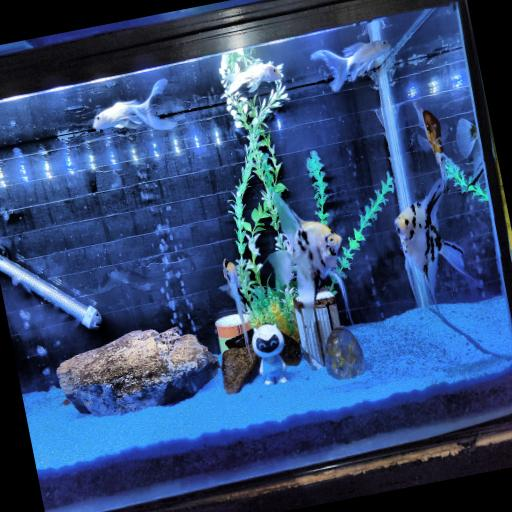Fish: (268, 193, 350, 338), (394, 181, 470, 304), (92, 79, 175, 130), (310, 41, 389, 91), (219, 259, 251, 363), (412, 102, 447, 189), (221, 62, 282, 98), (455, 119, 482, 182)
